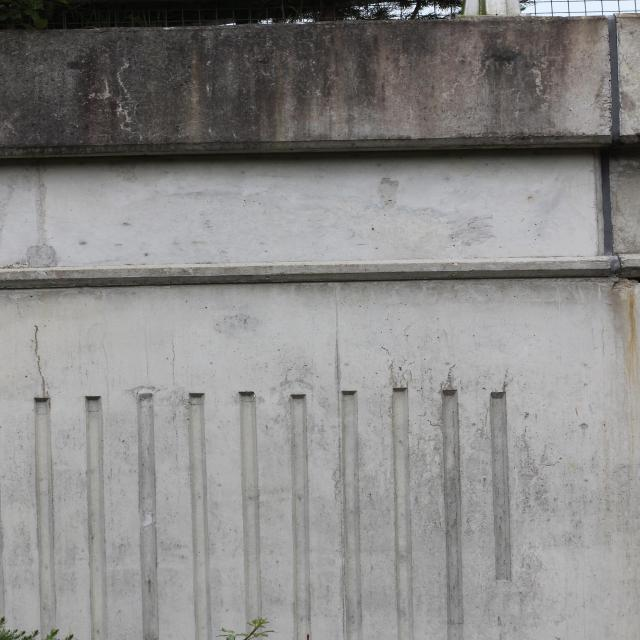concrete spalling: (611, 282, 633, 292)
vertical crack: (28, 324, 52, 409), (388, 354, 416, 390), (442, 365, 456, 390), (172, 336, 176, 384), (502, 369, 510, 391)
